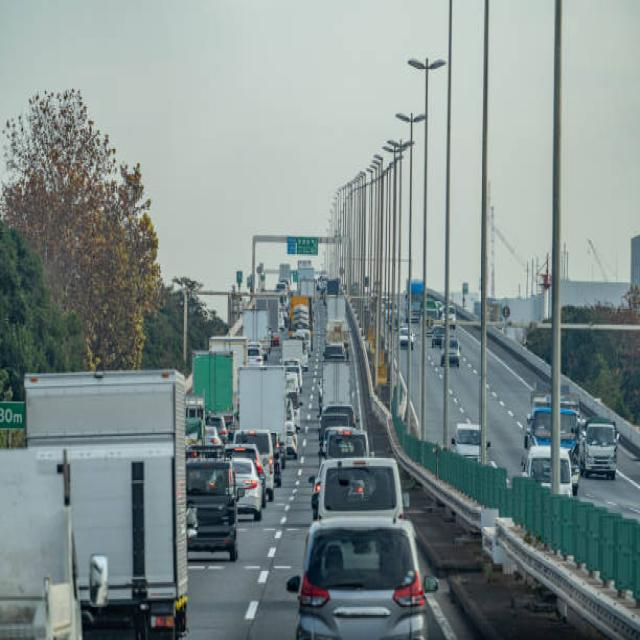moderate_traffic: (80, 274, 398, 640)
no-low traffic: (418, 288, 628, 540)
